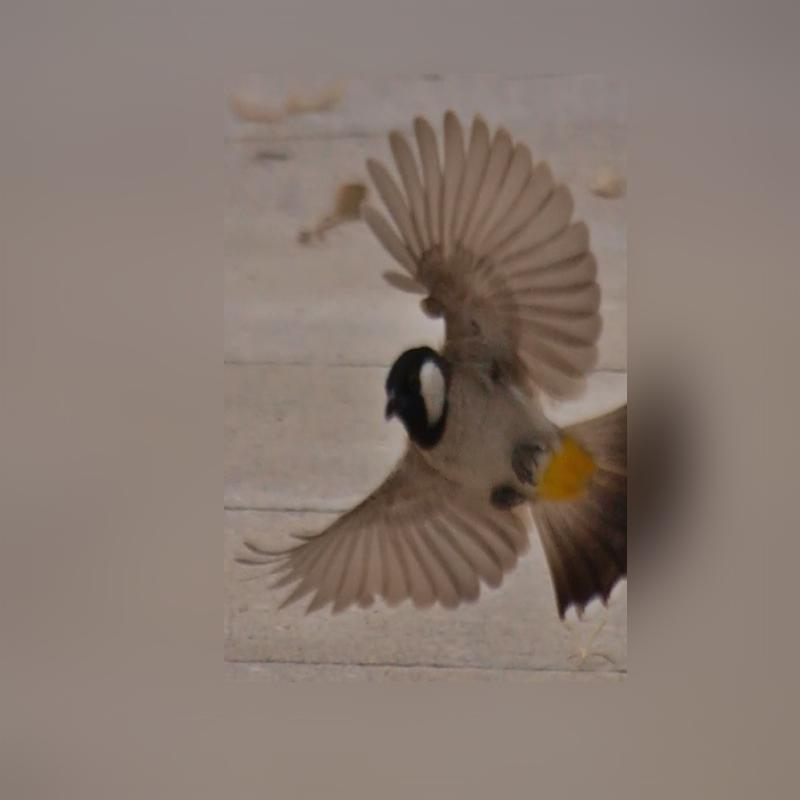white-eared bulbul: (224, 103, 626, 653)
